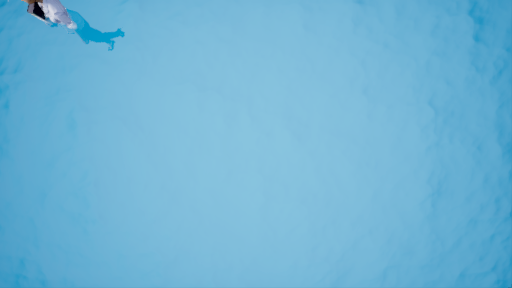person: (28, 2, 127, 63)
